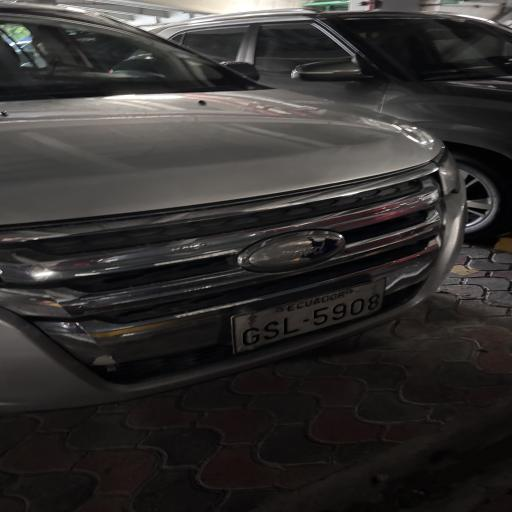license_plate: (232, 278, 386, 353)
